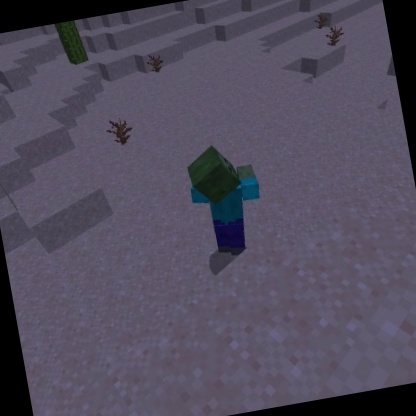zombie: (178, 135, 275, 266)
